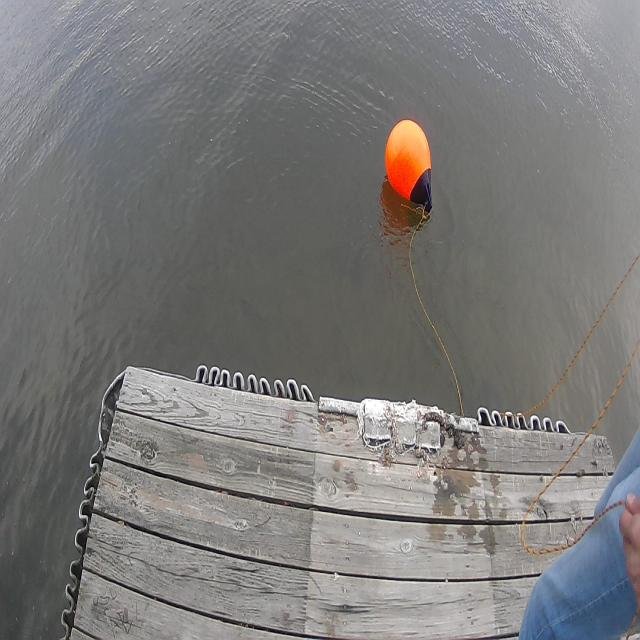Buoy: (384, 118, 432, 196)
